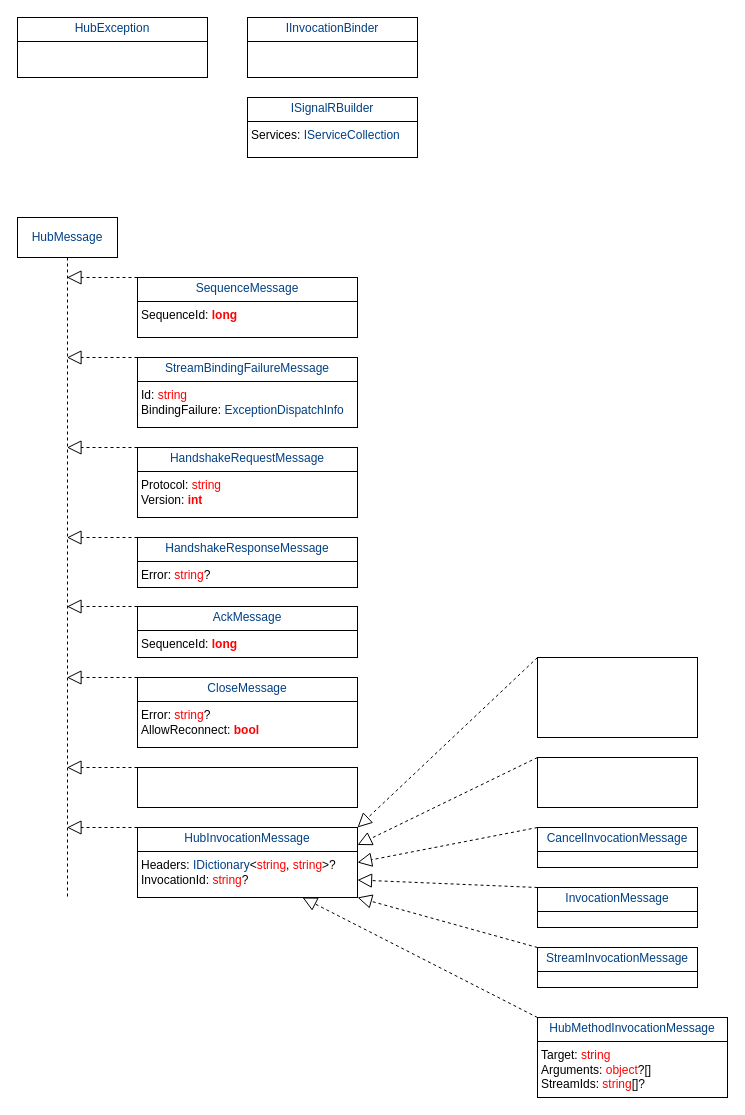
The diagram is 745 pixels wide and 1115 high, and some of its shapes have lost their labels. Each missing label, with the centre of its shape:
CompletionMessage Error: string ? Result: object ? HasResult: bool: the point at 617,697
PingMessage: the point at 247,787
StreamItemMessage Item : object ?: the point at 617,782
